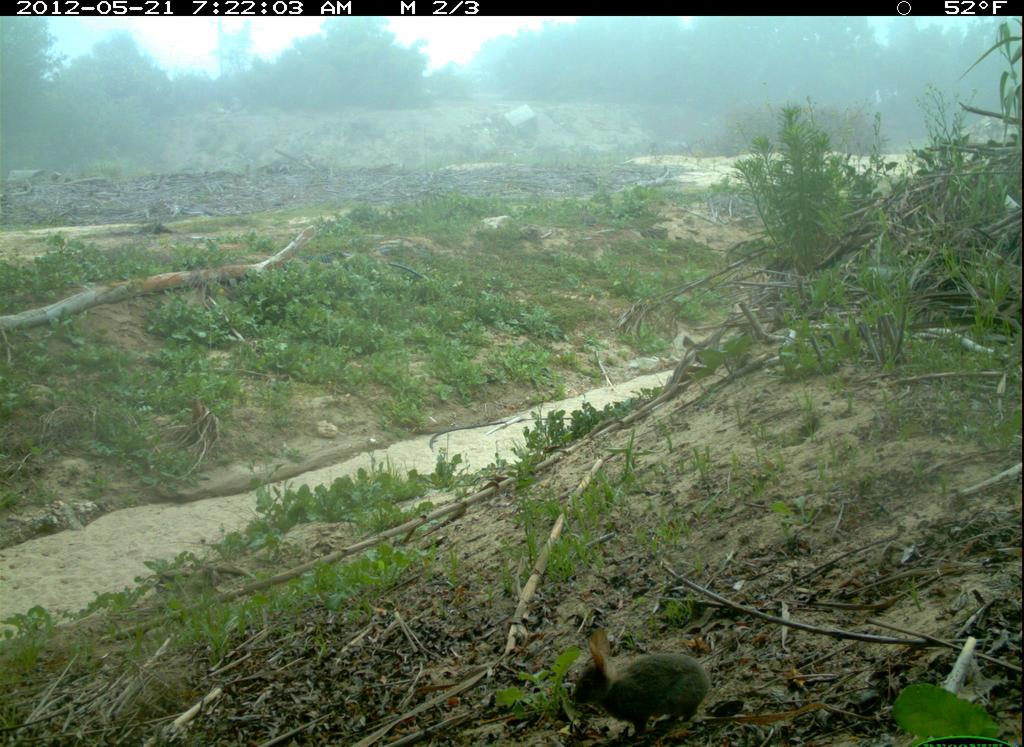rabbit: (563, 623, 719, 747)
